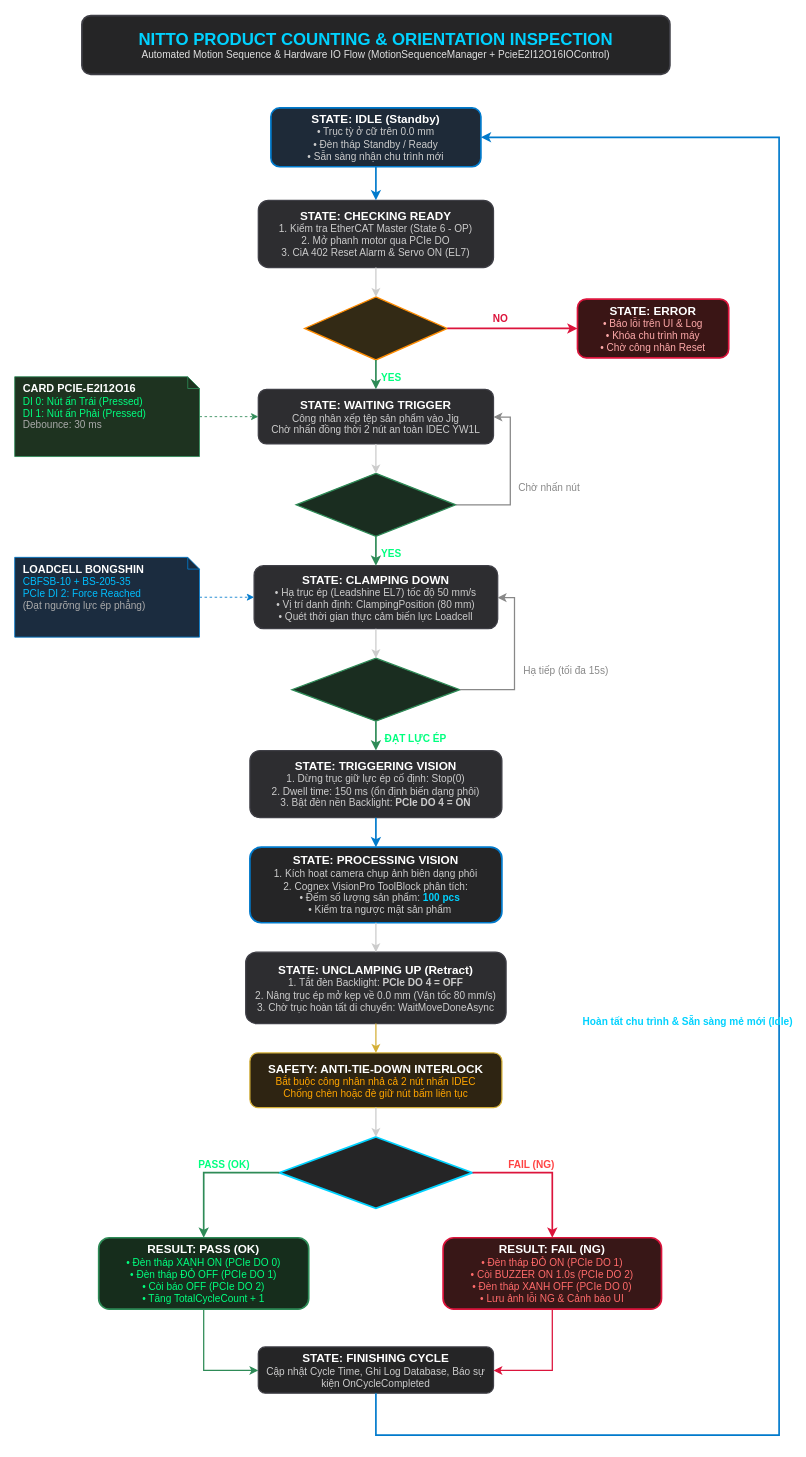
This 806x1457 diagram has some shape labels left out. Each missing label, with the centre of its shape:
"Cả 2 nút DI 0 & DI 1 cùng HIGH?" goes at (375,504).
"Kết quả Vision Đủ 100pcs & Đúng chiều?" goes at (375,1172).
"Master OP & Servo ON?" goes at (375,328).
"Đạt lực tỳ DI 2 hoặc chạm cữ ép?" goes at (375,689).
